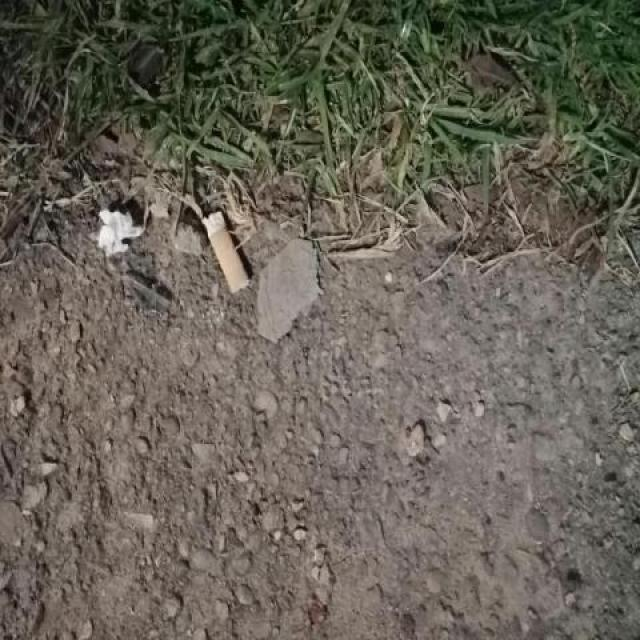non-organic waste: (198, 206, 254, 295)
